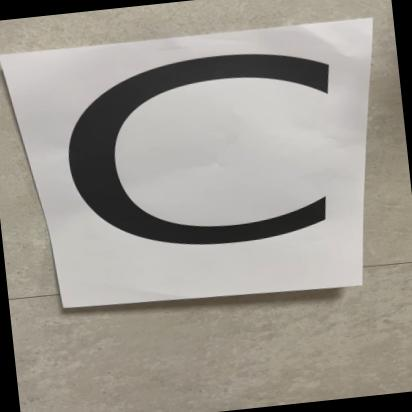seat: (0, 24, 374, 320)
